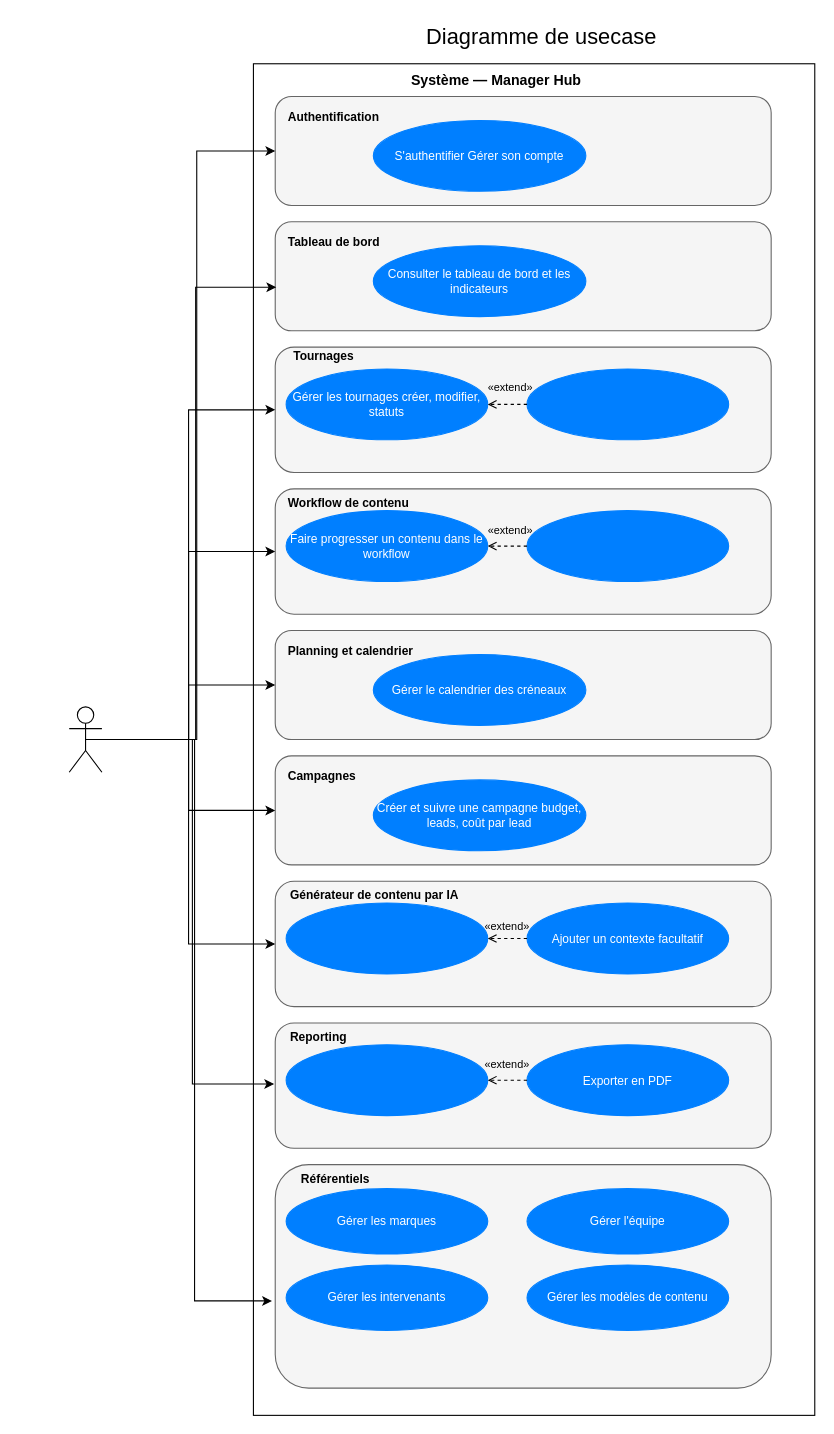
This 834x1434 diagram has some shape labels left out. Each missing label, with the centre of its shape:
"Créer un contenu depuis un tournage" belongs at point (627, 546).
"Générer le rapport hebdomadaire" belongs at point (386, 1080).
"Générer un script et une légende" belongs at point (386, 938).
"Responsable Marketing" belongs at point (85, 739).
"Réserver un créneau pour un tournage" belongs at point (627, 404).
